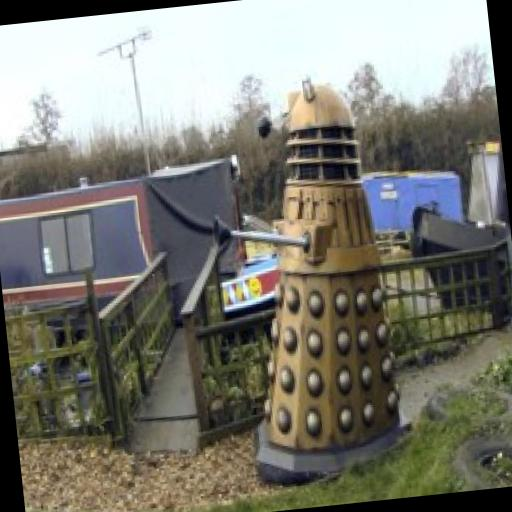dalek: (192, 70, 420, 494)
